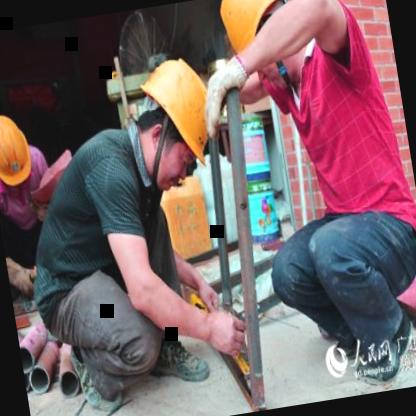helmet: (120, 49, 225, 199), (212, 0, 314, 106), (0, 109, 38, 200)
